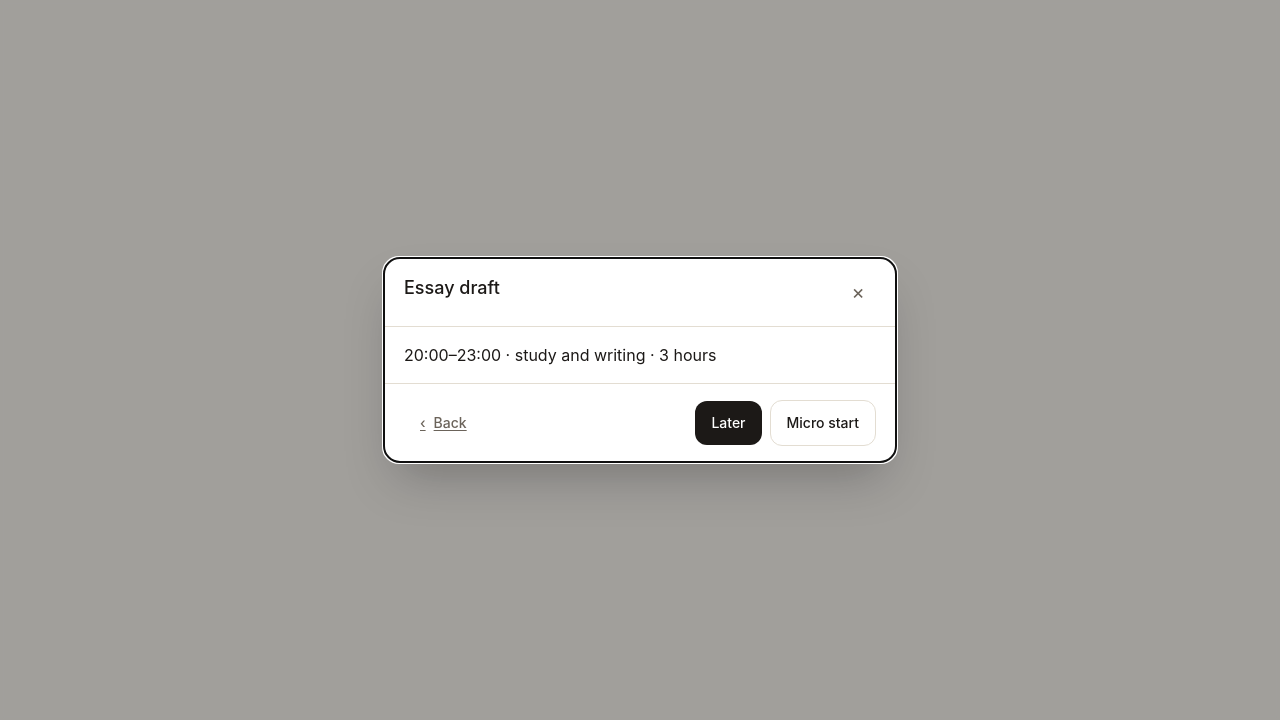
it: what the line under the title says › the Later proposal › offers the move alongside a way to decline it
The width and height of the screenshot is (1280, 720).
Click the button "Later" at (728, 423), box [695,401,762,445]
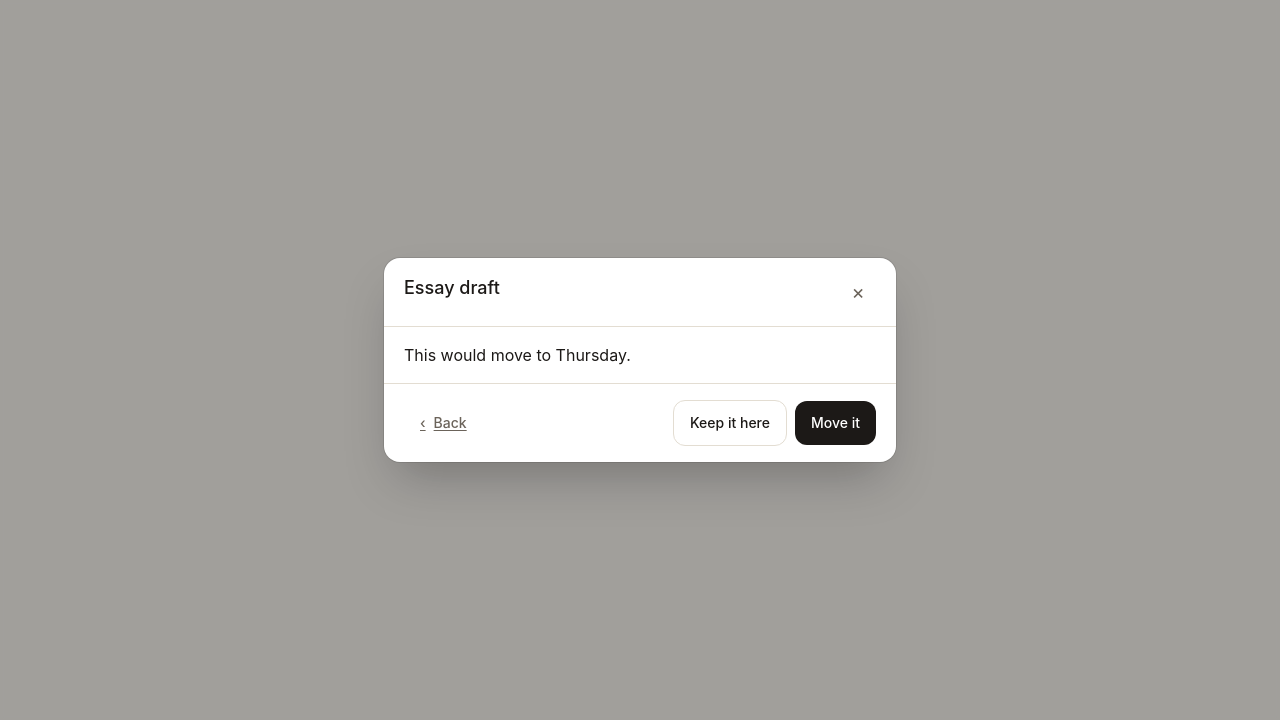
expect the text with test id "confirm-later" shows "would move to": met, box [404,345,631,365]
expect the button "Keep it here" is shown: met, box [673,400,787,446]
